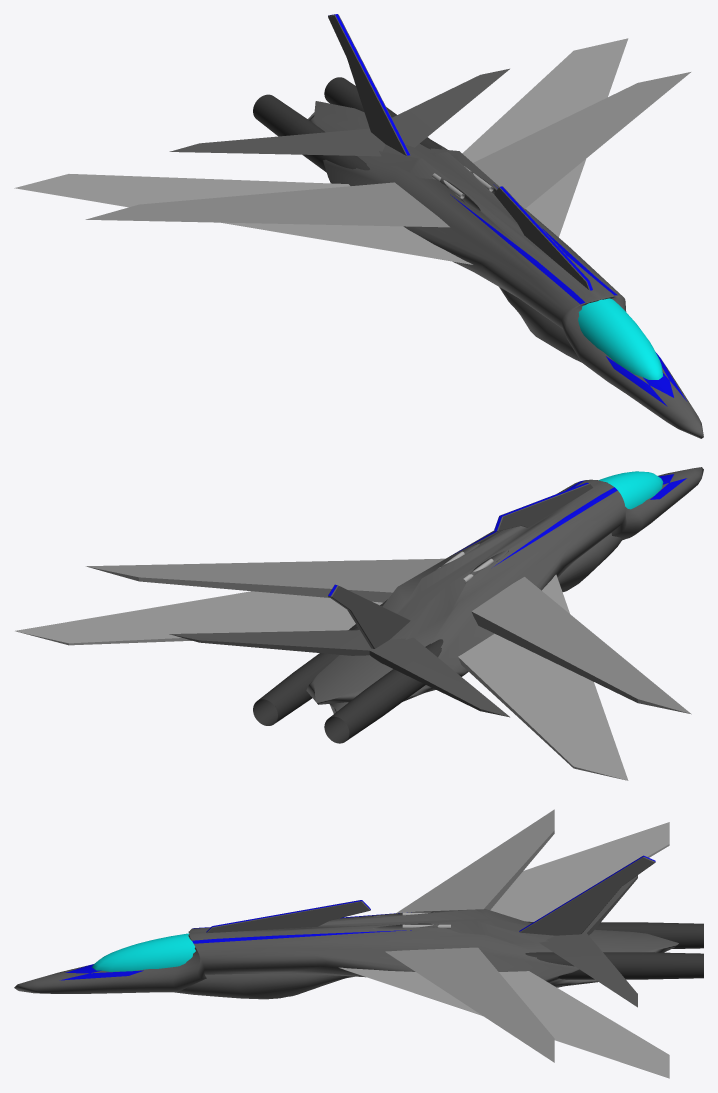
File: Cebula.fbx
The picture shows the model from 3 angles, top to bottom: view 1: azimuth 30°, elevation 25°; view 2: azimuth 150°, elevation 25°; view 3: azimuth 270°, elevation 25°; orthographic projection. The views are drawn at different scales.
Parts seen in each view (by area): view 1: pasted__group9; view 2: pasted__group9; view 3: pasted__group9.
Part boxes in pixels (x1,y1,x2,y2): pasted__group9: (14,14,703,438); pasted__group9: (15,467,703,780); pasted__group9: (14,809,703,1078).
Bounding box in the file's own units: 129 × 32.88 × 147.
